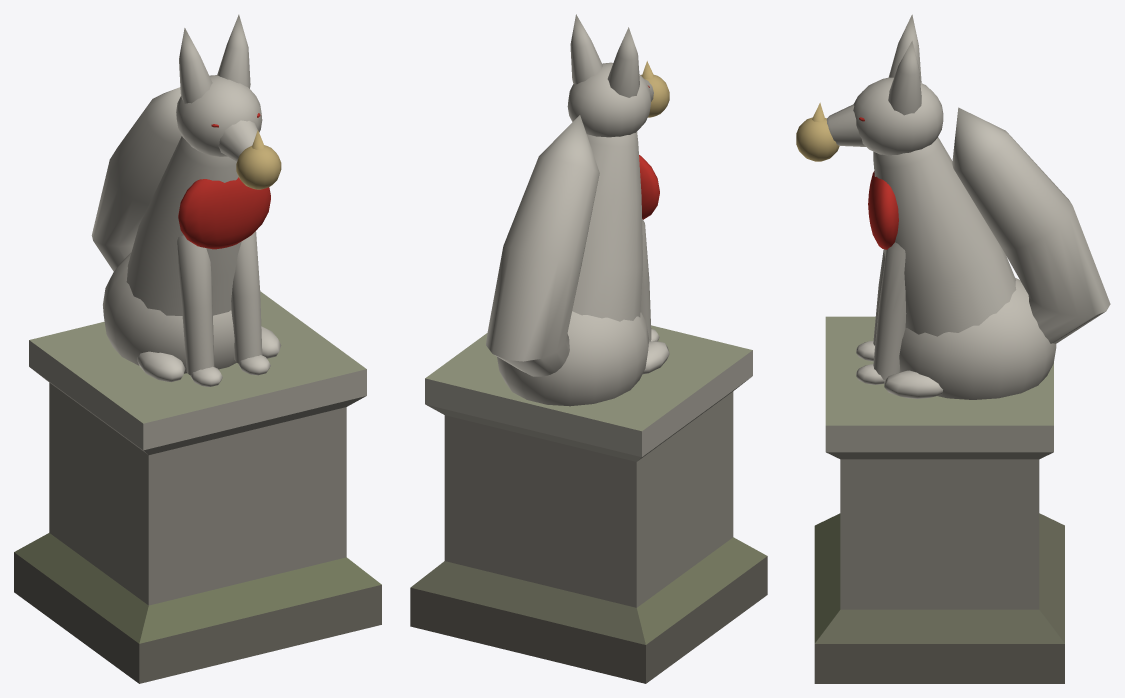
The model's file is Shrine_Fox_A.fbx.
The picture shows the model from 3 angles, left to right: view 1: azimuth 30°, elevation 25°; view 2: azimuth 150°, elevation 25°; view 3: azimuth 270°, elevation 25°; orthographic projection. The views are drawn at different scales.
Visible parts, largest first — view 1: Shrine_Fox_A; view 2: Shrine_Fox_A; view 3: Shrine_Fox_A.
Part boxes in pixels (<box>): Shrine_Fox_A: <box>14,14,381,683</box>; Shrine_Fox_A: <box>410,14,767,683</box>; Shrine_Fox_A: <box>796,14,1110,683</box>.
Size of the model in its own units: 7.6 by 17.9 by 8.53.
